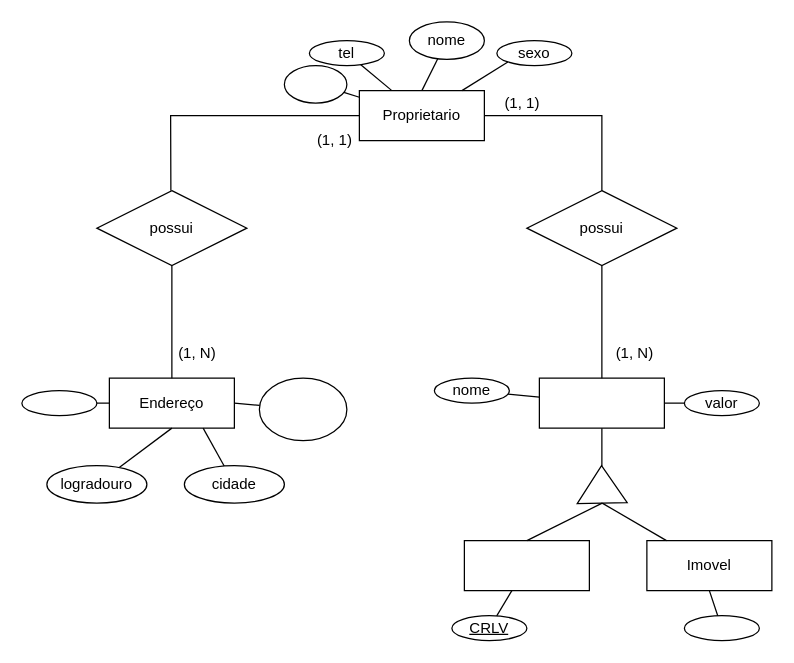
This 794x663 diagram has some shape labels left out. The box of each missing label's shape, as (x1, y1, x2, y2) in pixels:
Bem: (538, 377, 664, 428)
cep: (21, 389, 97, 416)
email: (283, 64, 347, 103)
estado: (258, 377, 347, 441)
Movel: (463, 539, 589, 591)
RGI: (683, 614, 759, 641)
